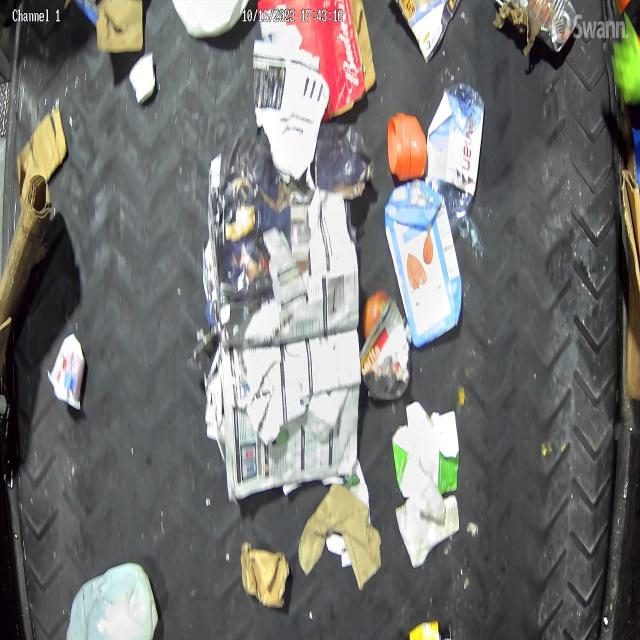can: (493, 0, 579, 55)
milk_jug: (67, 564, 162, 640)
plastic_bottle: (426, 81, 485, 236)
